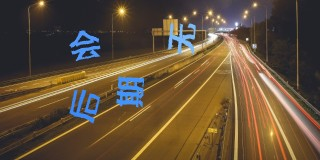会: (69, 30, 102, 62)
后: (69, 88, 99, 123)
无: (167, 21, 197, 55)
期: (115, 75, 146, 108)
